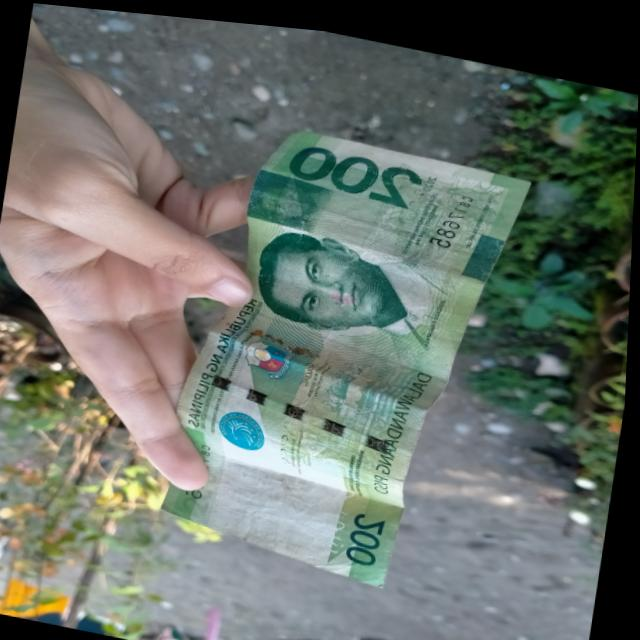concealed_value: (242, 162, 332, 229)
security_thread: (186, 363, 413, 448)
see_through_mark: (318, 470, 365, 553)
serial_number: (428, 169, 477, 247)
value: (281, 131, 426, 205)
